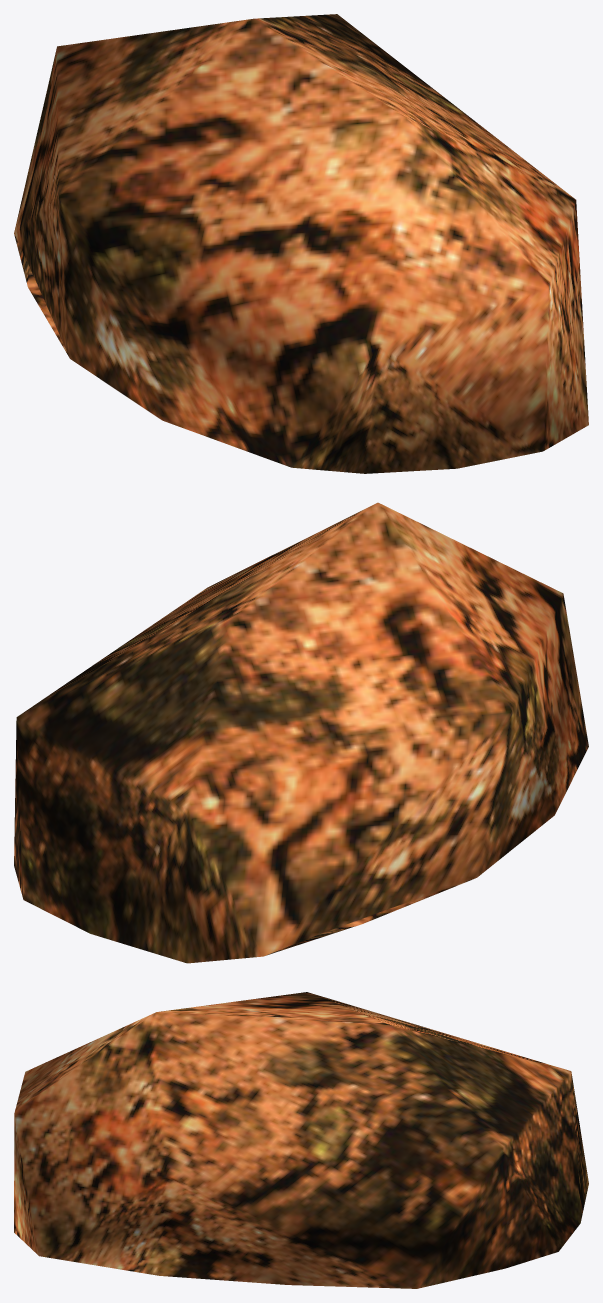
File: stone9_tex3.fbx
3 views of the same model, one above another, from view 1: azimuth 30°, elevation 25°; view 2: azimuth 150°, elevation 25°; view 3: azimuth 270°, elevation 25° (orthographic). The views are drawn at different scales.
Parts seen in each view (by area): view 1: stone9_tex3Object; view 2: stone9_tex3Object; view 3: stone9_tex3Object.
Part boxes in pixels (left/top/right/bottom): stone9_tex3Object: left=14, top=14, right=588, bottom=473; stone9_tex3Object: left=14, top=502, right=588, bottom=963; stone9_tex3Object: left=14, top=992, right=588, bottom=1288.
Size of the model in its own units: 0.3704 by 0.214 by 0.5419.
1 material, 1 textured.
